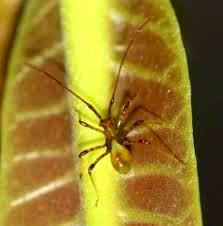Helopeltis-insect: (84, 105, 144, 176)
